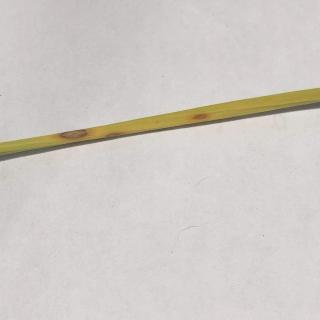Blast: (60, 128, 92, 142), (191, 110, 211, 126)
